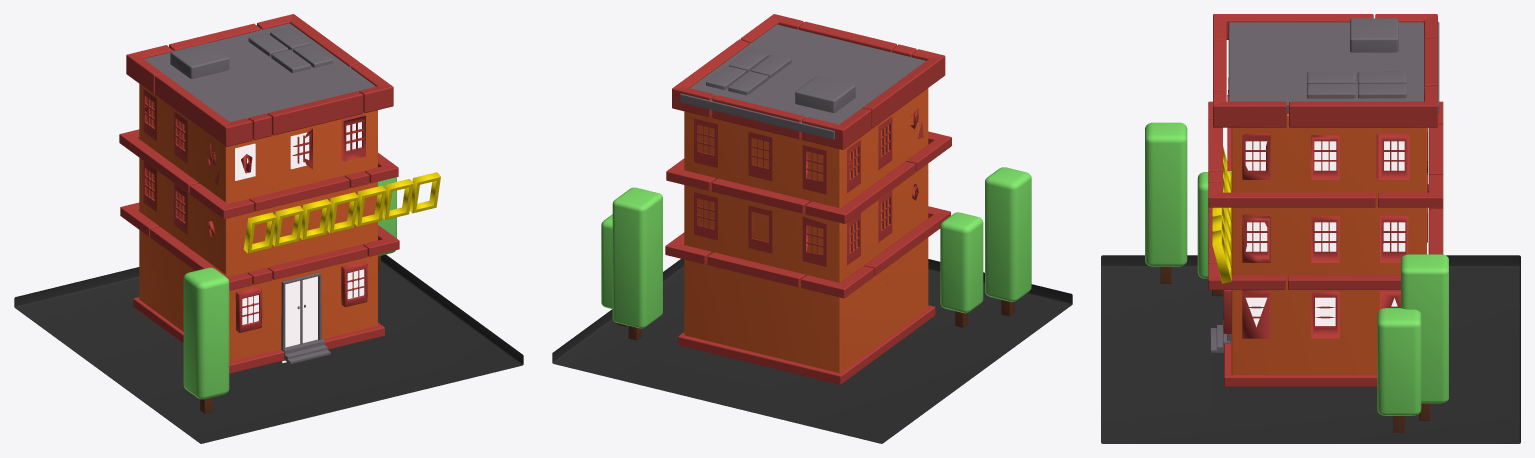
File: library_25.glb
The picture shows the model from 3 angles, left to right: view 1: azimuth 30°, elevation 25°; view 2: azimuth 150°, elevation 25°; view 3: azimuth 270°, elevation 25°; orthographic projection. The views are drawn at different scales.
Visible parts, largest first — view 1: Plane.008, Cube.001, Plane.004, Cube.002, Cube.032, Text, Plane.006, Plane.007, Cube.003, Cube, Cube.007, Cube.020 (+9 smaller); view 2: Cube.001, Plane.008, Cube.002, Plane.004, Cube.003, Cube.050, Cube.032, Plane.006, Plane.007, Cube.034, Cube, Cube.020 (+3 smaller); view 3: Plane.008, Cube.001, Cube.002, Plane.004, Cube.003, Cube.032, Plane.006, Cube.050, Cube.043, Plane.007, Cube, Cube.020 (+12 smaller).
Boxes of the visible parts, x1=… form: Plane.008: x1=14, y1=254, x2=523, y2=443; Cube.001: x1=139, y1=84, x2=377, y2=361; Plane.004: x1=126, y1=14, x2=393, y2=146; Cube.002: x1=144, y1=23, x2=375, y2=121; Cube.032: x1=183, y1=267, x2=229, y2=399; Text: x1=243, y1=172, x2=440, y2=253; Plane.006: x1=119, y1=129, x2=398, y2=218; Plane.007: x1=120, y1=202, x2=399, y2=290; Cube.003: x1=143, y1=89, x2=365, y2=275; Cube: x1=133, y1=297, x2=384, y2=373; Cube.007: x1=282, y1=276, x2=317, y2=363; Cube.020: x1=248, y1=33, x2=332, y2=73; Cube.001: x1=684, y1=88, x2=928, y2=372; Plane.008: x1=552, y1=259, x2=1072, y2=443; Cube.002: x1=680, y1=24, x2=925, y2=139; Plane.004: x1=672, y1=14, x2=945, y2=149; Cube.003: x1=694, y1=106, x2=923, y2=316; Cube.050: x1=612, y1=187, x2=662, y2=328; Cube.032: x1=985, y1=167, x2=1031, y2=301; Plane.006: x1=666, y1=131, x2=951, y2=223; Plane.007: x1=665, y1=206, x2=950, y2=298; Cube.034: x1=940, y1=212, x2=983, y2=313; Cube: x1=678, y1=305, x2=935, y2=384; Cube.020: x1=728, y1=49, x2=791, y2=95; Plane.008: x1=1101, y1=255, x2=1520, y2=443; Cube.001: x1=1231, y1=113, x2=1426, y2=374; Cube.002: x1=1228, y1=21, x2=1439, y2=113; Plane.004: x1=1213, y1=14, x2=1437, y2=127; Cube.003: x1=1227, y1=77, x2=1427, y2=338; Cube.032: x1=1145, y1=122, x2=1187, y2=266; Plane.006: x1=1208, y1=101, x2=1443, y2=207; Cube.050: x1=1401, y1=254, x2=1448, y2=403; Cube.043: x1=1377, y1=308, x2=1421, y2=415; Plane.007: x1=1208, y1=184, x2=1443, y2=289; Cube: x1=1224, y1=334, x2=1377, y2=386; Cube.020: x1=1307, y1=71, x2=1406, y2=98.
Bounding box in the file's own units: 2.91 × 2.33 × 2.91.
